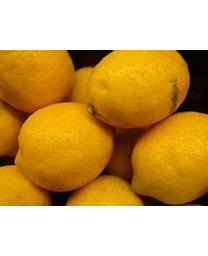lemon: (15, 101, 116, 193), (91, 51, 188, 126), (133, 110, 207, 202)
